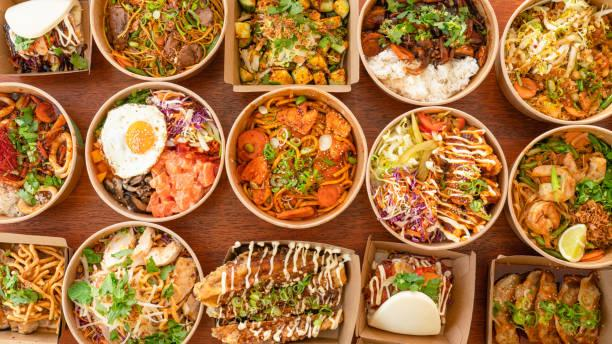Braised Crucian Carp: (366, 106, 505, 250), (225, 87, 364, 228), (84, 82, 218, 222), (63, 222, 202, 344), (211, 238, 360, 341), (506, 124, 609, 266), (360, 0, 497, 105), (495, 1, 607, 125), (350, 234, 474, 342), (224, 1, 355, 93), (1, 81, 83, 224), (485, 255, 609, 343), (90, 1, 221, 80), (1, 230, 70, 343), (1, 0, 92, 77)
